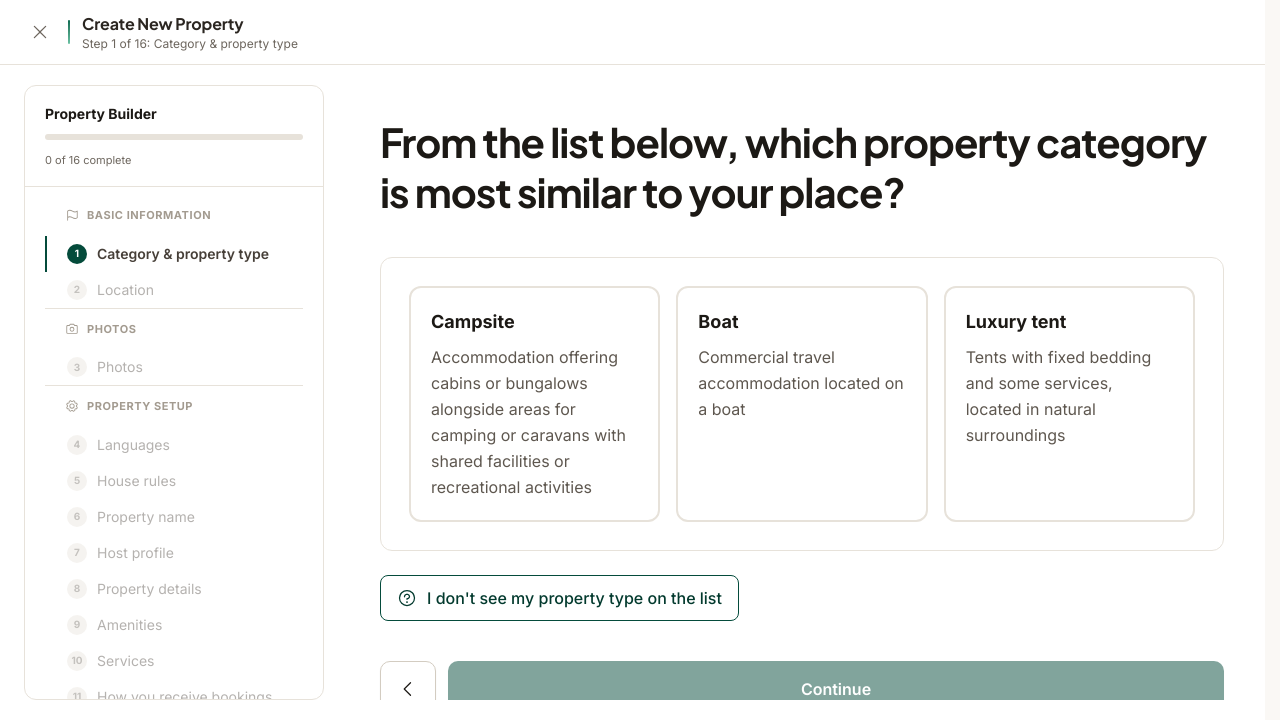
Test: PropertyAlternativeCategoryPage — the three alternative categories › goes back to the booking-type screen with the answer kept
Click the button named "Back": (408, 689) [380,661,436,717]
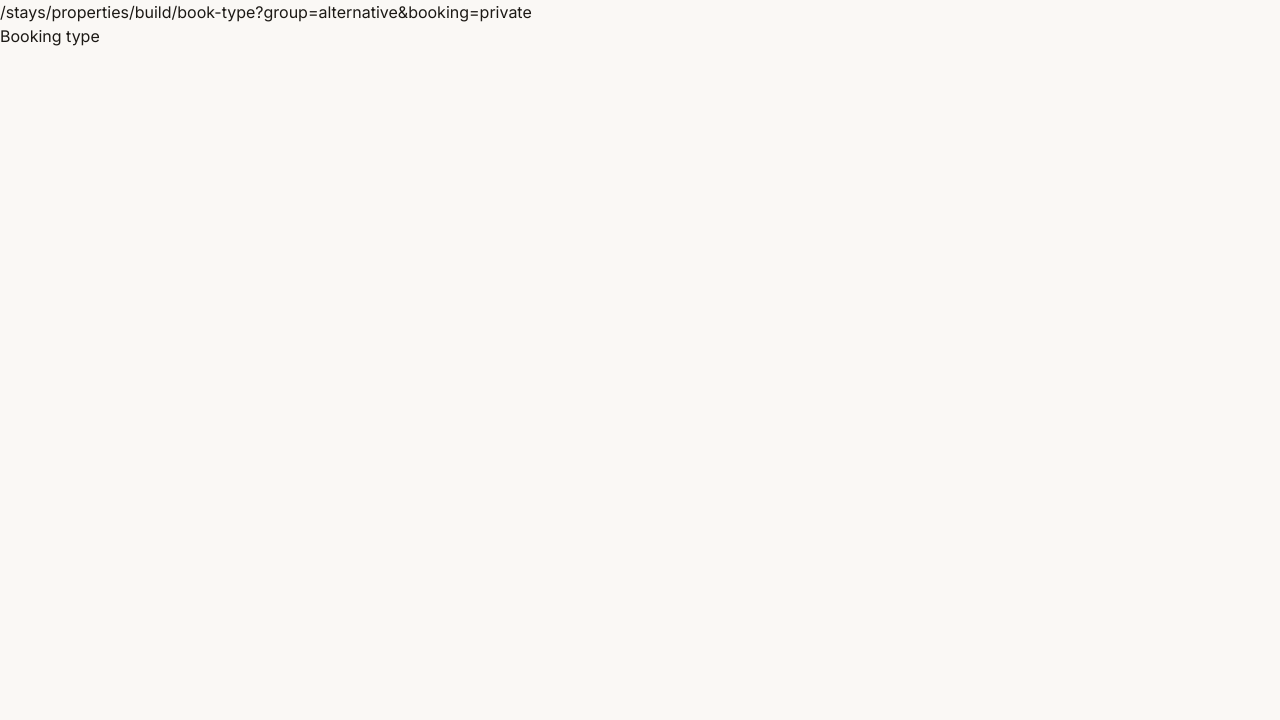
Now the text with test id "location" reads "/stays/properties/build/book-type?group=alternative&booking=private", box [0,2,532,22]
